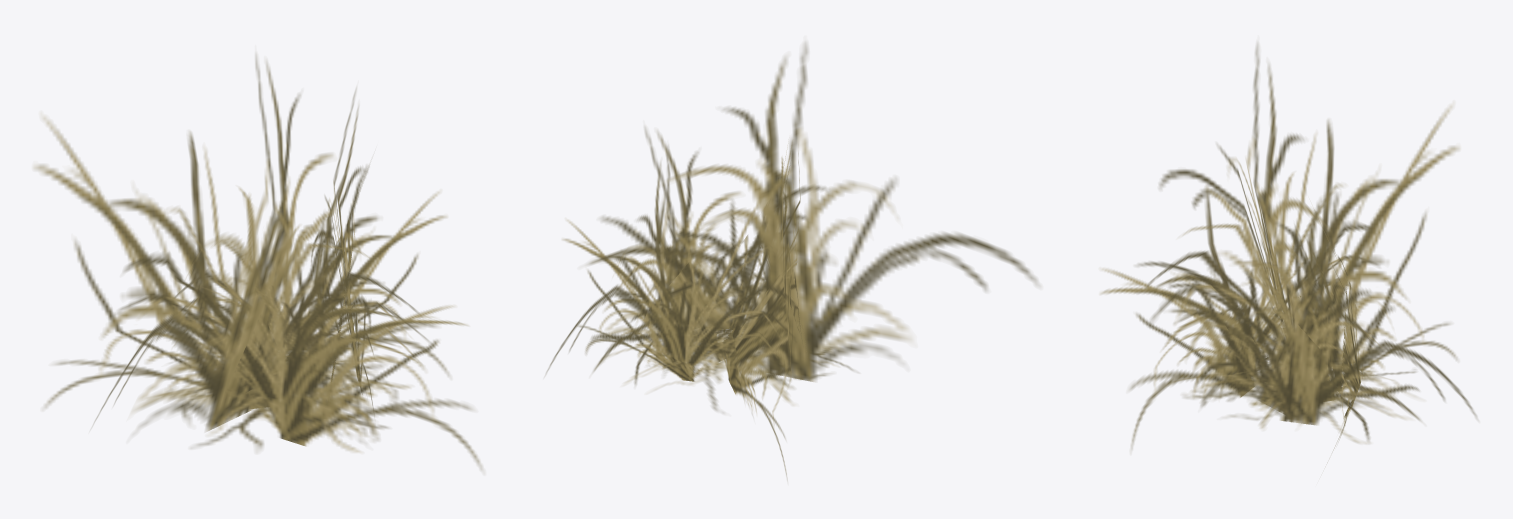
File: ichu_03.glb
3 views of the same model, side by side, from view 1: azimuth 30°, elevation 25°; view 2: azimuth 150°, elevation 25°; view 3: azimuth 270°, elevation 25° (orthographic). The views are drawn at different scales.
Visible parts, largest first — view 1: Ichu; view 2: Ichu; view 3: Ichu.
Boxes of the visible parts, x1,y1,x2,y2 form: Ichu: [33, 54, 482, 469]; Ichu: [546, 42, 1038, 480]; Ichu: [1100, 43, 1476, 450].
Size of the model in its own units: 0.3661 by 0.34 by 0.3096.
1 material, 1 textured.
